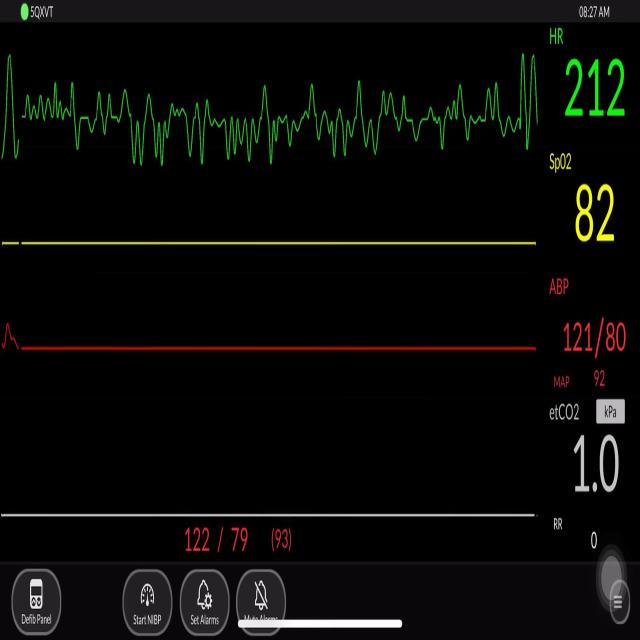danger: (512, 36, 545, 173), (0, 40, 22, 173)
